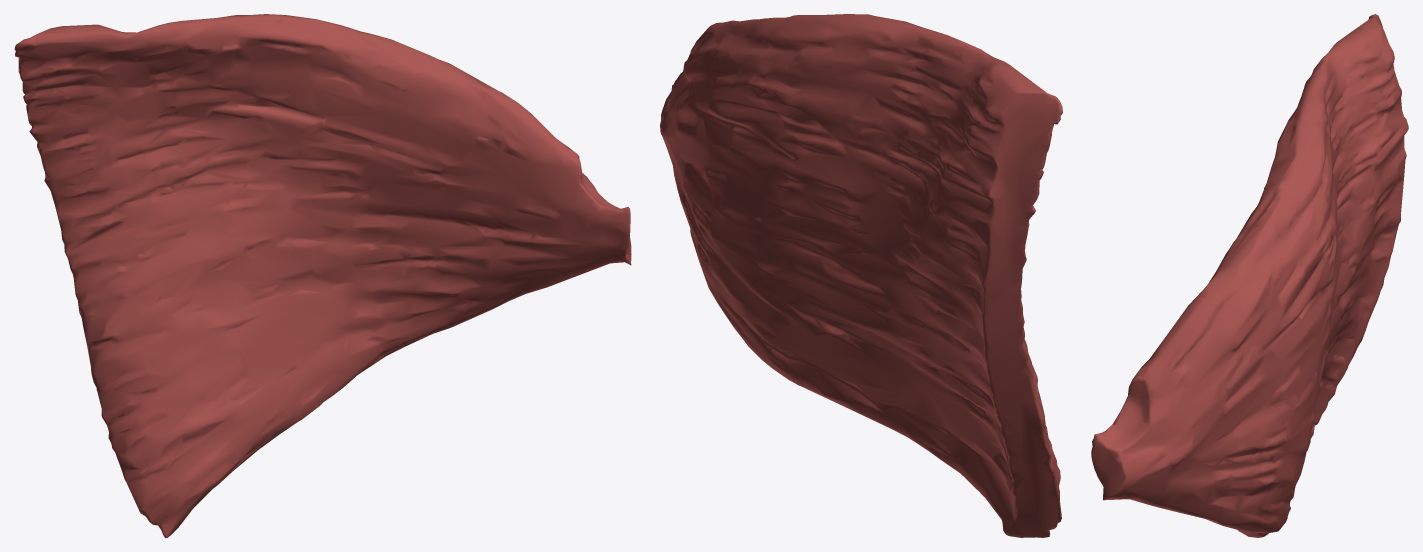
Rendered from FMA46124.glb.
3 renders of one model, left to right at view 1: azimuth 30°, elevation 25°; view 2: azimuth 150°, elevation 25°; view 3: azimuth 270°, elevation 25°, orthographic. The views are drawn at different scales.
Parts seen in each view (by area): view 1: FMA46124; view 2: FMA46124; view 3: FMA46124.
Part boxes in pixels (box(x1,y1,x2,y2)): FMA46124: box(14, 14, 631, 537); FMA46124: box(660, 14, 1062, 537); FMA46124: box(1091, 14, 1408, 537).
Size of the model in its own units: 0.0413 by 0.0382 by 0.0226.
